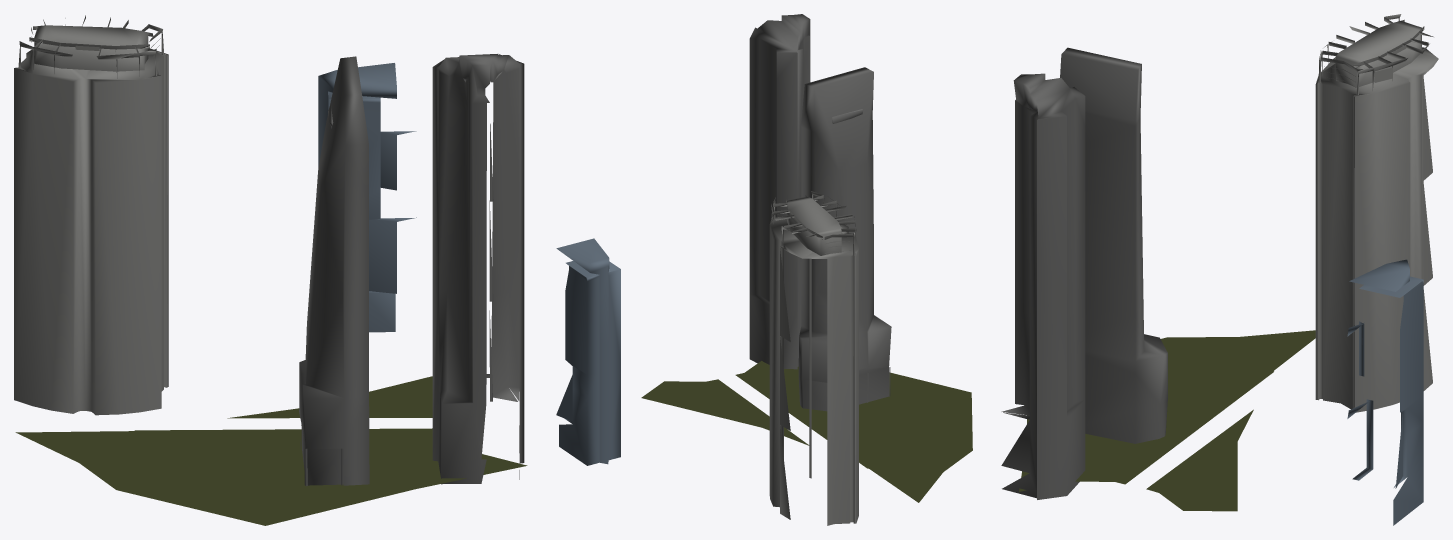
3 views of the same model, side by side, from view 1: azimuth 30°, elevation 25°; view 2: azimuth 150°, elevation 25°; view 3: azimuth 270°, elevation 25° (orthographic). The views are drawn at different scales.
Parts seen in each view (by area): view 1: merged__lod1; view 2: merged__lod1; view 3: merged__lod1.
Boxes of the visible parts, x1=… form: merged__lod1: x1=14, y1=15, x2=527, y2=525; merged__lod1: x1=556, y1=14, x2=972, y2=525; merged__lod1: x1=1001, y1=14, x2=1438, y2=525.
Bounding box in the file's own units: 222 × 214 × 213.
